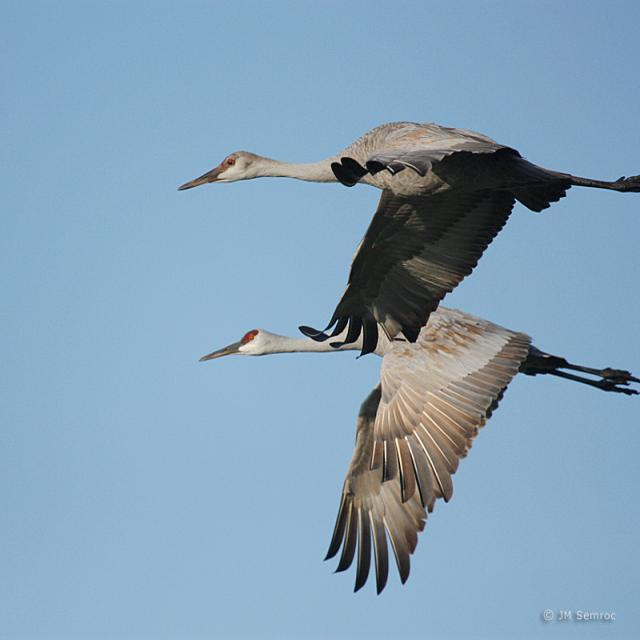bird: (187, 307, 613, 592), (161, 107, 640, 340)
